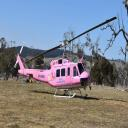helicopter: (13, 41, 96, 102)
